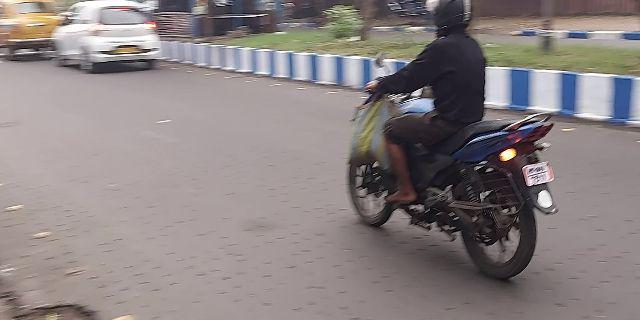Car: (50, 2, 170, 67)
Motorbike: (339, 1, 563, 287)
